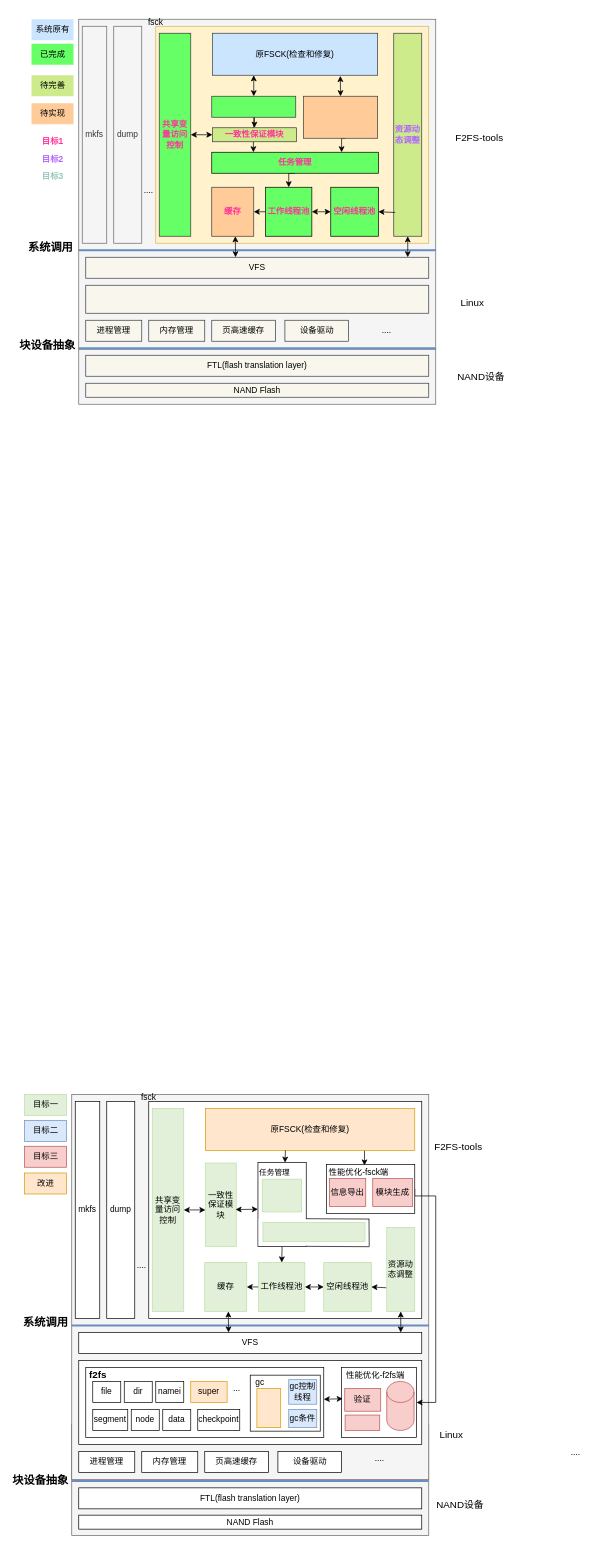
Some shapes in this 608 by 1548 pixel diagram are drawn without their labels. The centre of each missing label's shape, as x and y in pixels:
F2FS文件系统: point 257,299
主gc流程: point 268,1408
任务划分: point 281,1195
任务抓取: point 253,106
任务调度: point 313,1231
加载: point 362,1422
性能优化: point 340,117
数据: point 400,1405
